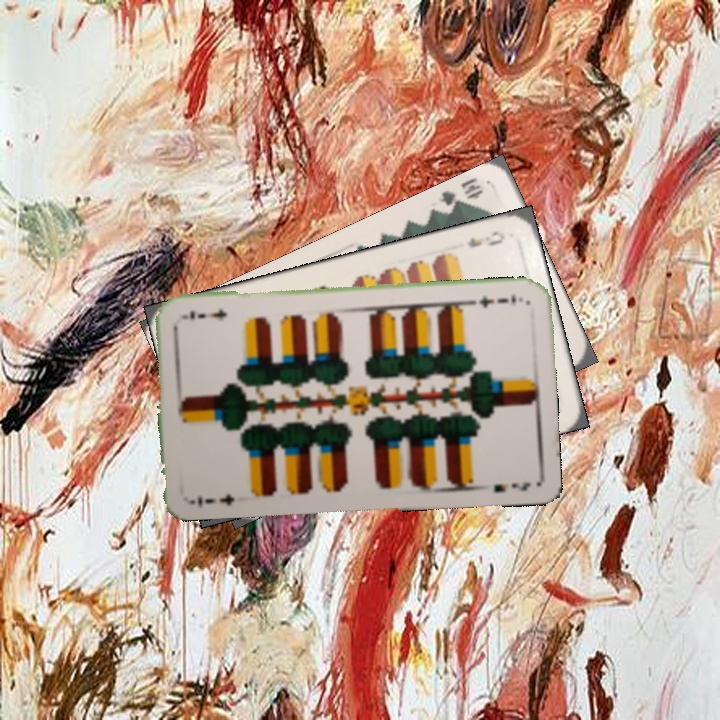E7: (468, 289, 526, 309), (194, 490, 237, 510)
E9: (464, 226, 507, 250)
G10: (434, 174, 486, 217)
